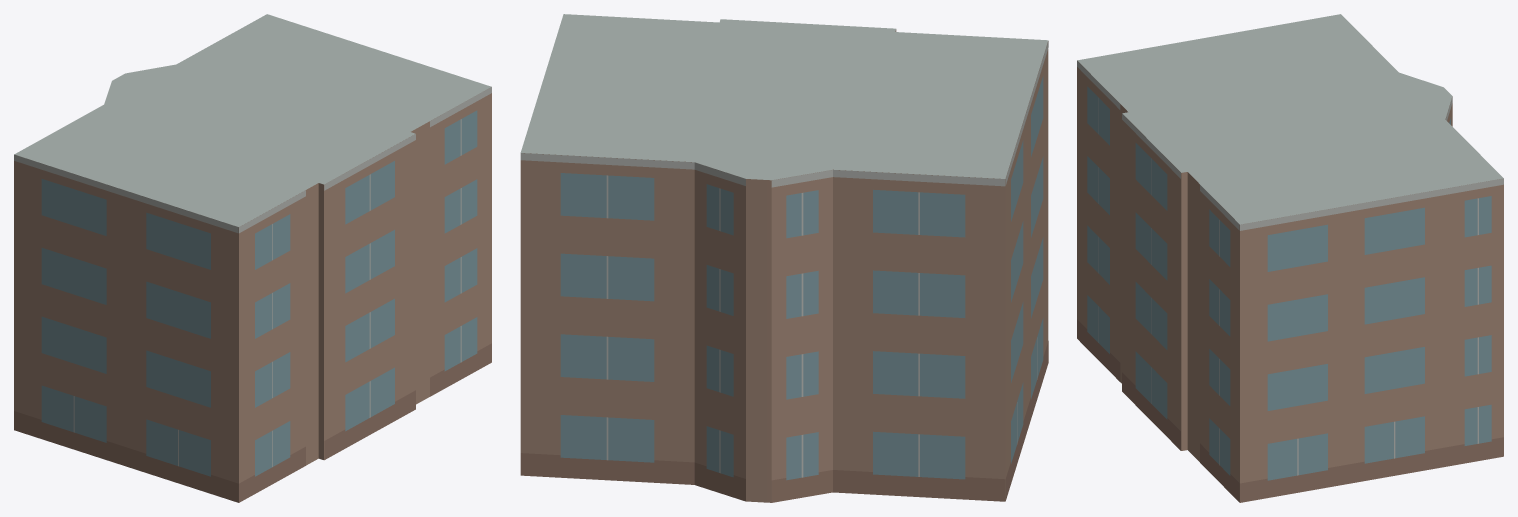
The model's file is survey-upis-32933922.glb.
3 renders of one model, left to right at view 1: azimuth 30°, elevation 25°; view 2: azimuth 150°, elevation 25°; view 3: azimuth 270°, elevation 25°, orthographic. The views are drawn at different scales.
Parts seen in each view (by area): view 1: survey-upis-32933922.tmp; view 2: survey-upis-32933922.tmp; view 3: survey-upis-32933922.tmp.
Part boxes in pixels (x1,y1,x2,y2): survey-upis-32933922.tmp: (14,14,491,502); survey-upis-32933922.tmp: (520,14,1048,502); survey-upis-32933922.tmp: (1077,14,1503,502).
Size of the model in its own units: 17.38 by 10.7 by 14.88.
